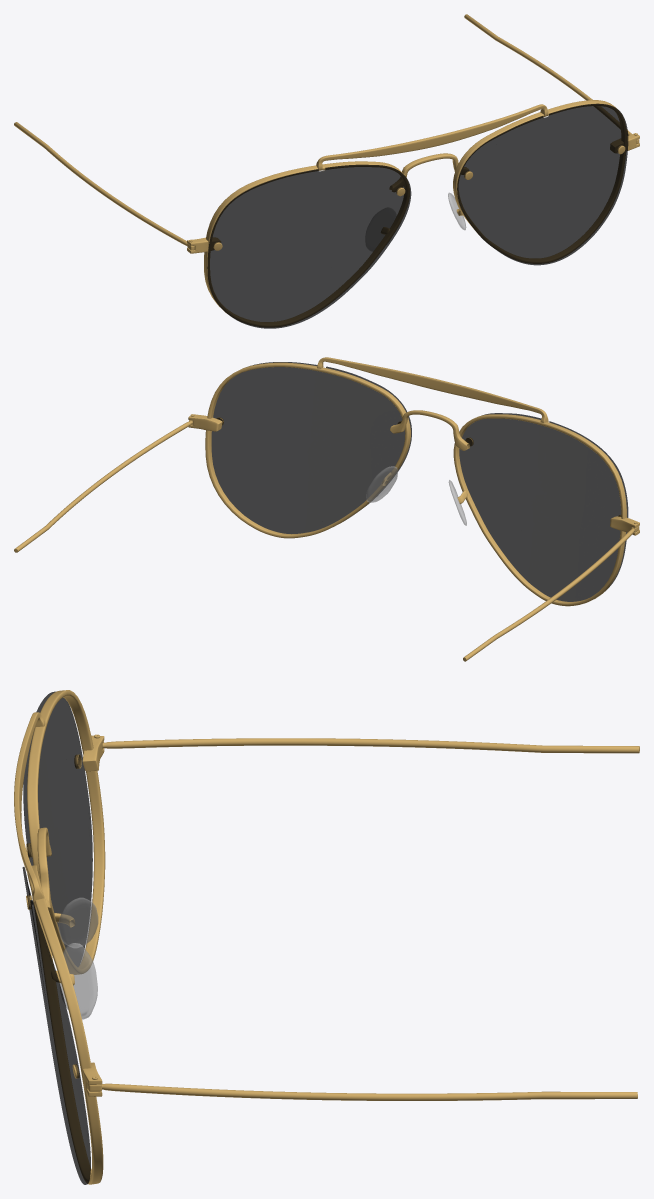
The model's file is blaze_app.glb.
3 views of the same model, one above another, from view 1: azimuth 30°, elevation 25°; view 2: azimuth 150°, elevation 25°; view 3: azimuth 270°, elevation 25° (orthographic). The views are drawn at different scales.
Visible parts, largest first — view 1: lentes, armacao, ponte; view 2: lentes, armacao, ponte; view 3: armacao, lentes, ponte.
Boxes of the visible parts, left/top/right/bottom form: lentes: left=207, top=103, right=628, bottom=328; armacao: left=14, top=14, right=639, bottom=327; ponte: left=366, top=192, right=466, bottom=250; lentes: left=211, top=362, right=628, bottom=601; armacao: left=14, top=357, right=639, bottom=661; ponte: left=366, top=466, right=466, bottom=525; armacao: left=14, top=690, right=639, bottom=1184; lentes: left=22, top=691, right=92, bottom=1184; ponte: left=58, top=897, right=98, bottom=1019.
Size of the model in its own units: 0.1576 by 0.0568 by 0.1173.
Materials: 3 (3 with a texture image).
